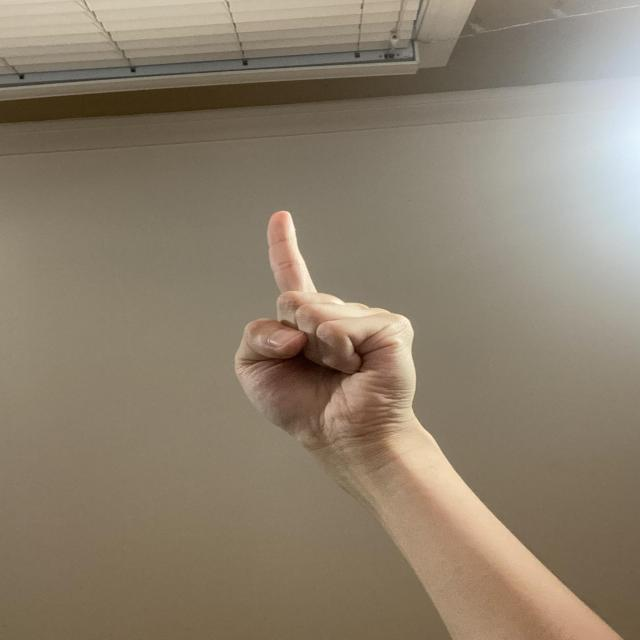Z: (225, 204, 427, 467)
